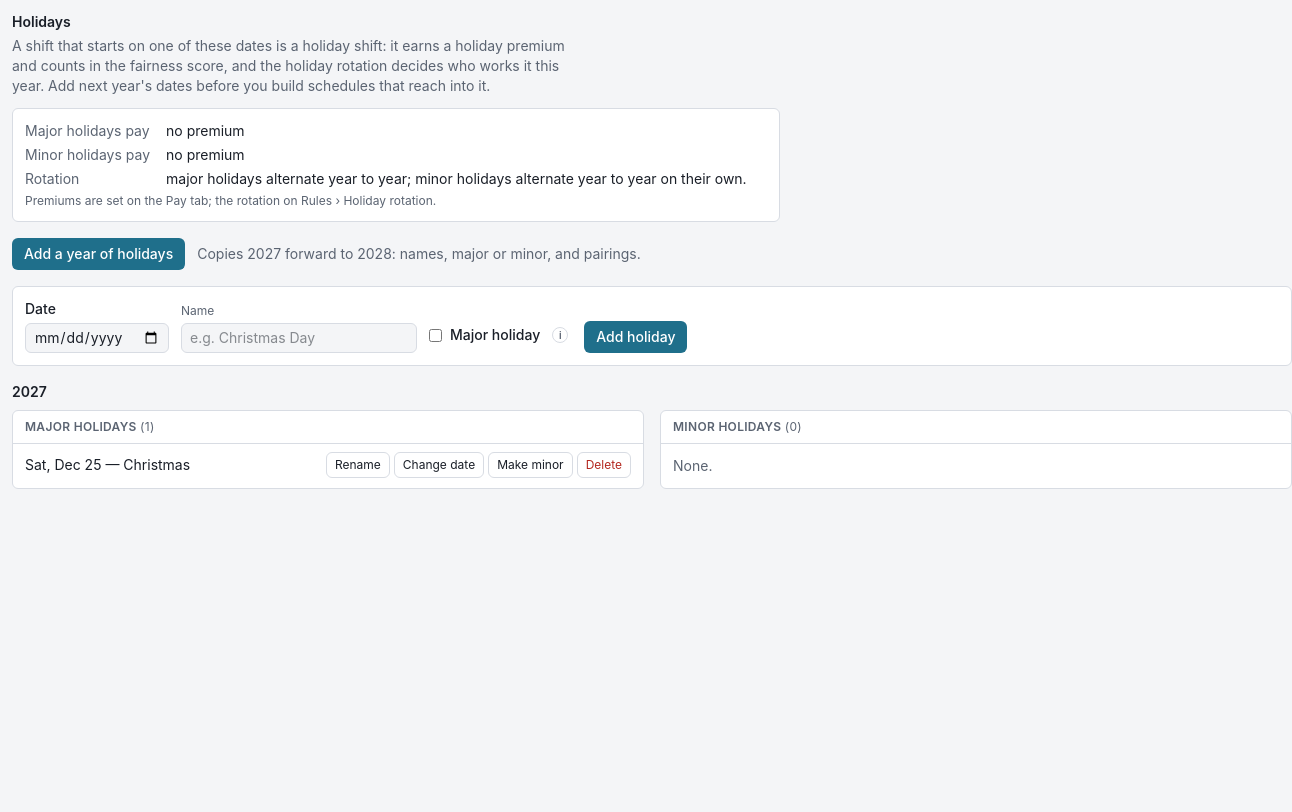
Test case: Settings › Holidays › shows the refusal in the manager’s words when a move needs a reason
Step 1. Click the button "Change date" → click(439, 465), box x1=394 y1=452 x2=484 y2=478
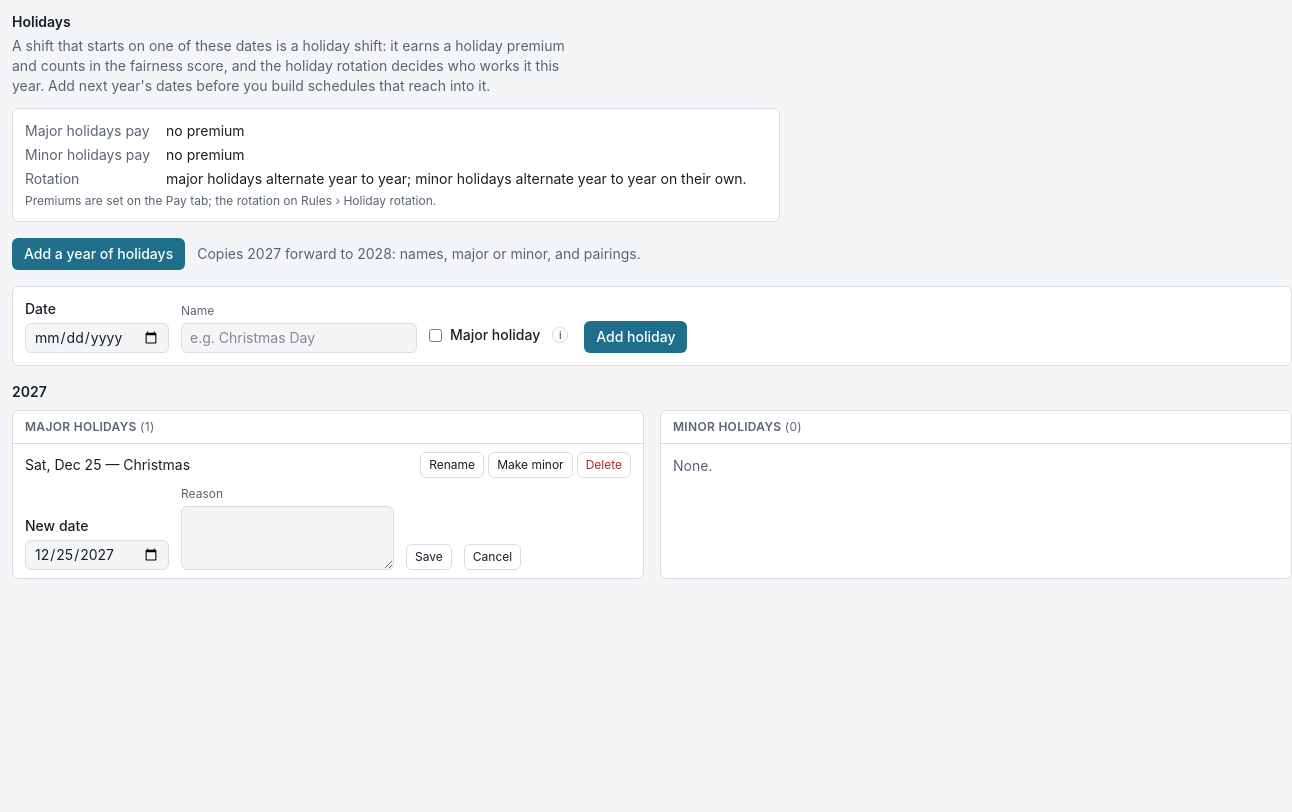
Step 2. Type "2027-12-26" into the date field labelled "New date" → (97, 555), box x1=25 y1=540 x2=169 y2=570
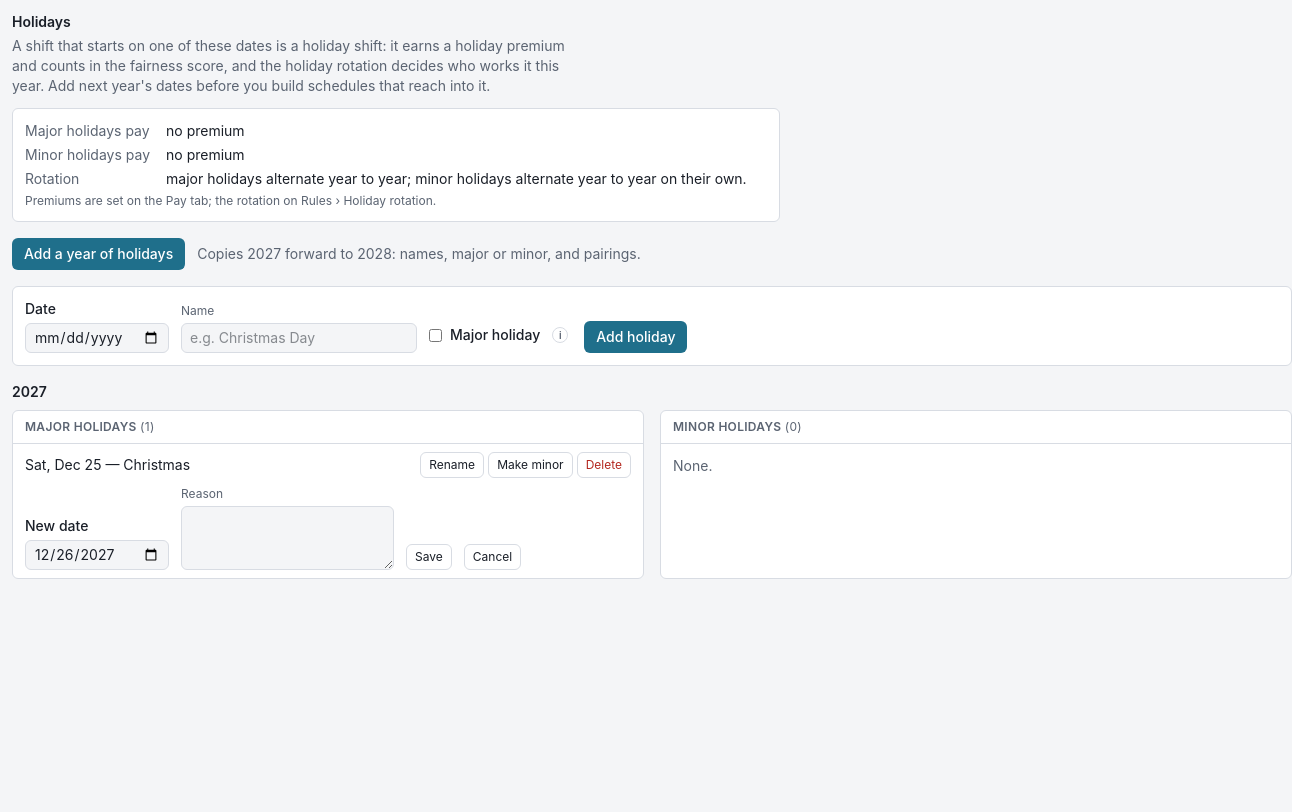
Step 3. Click the button "Save" → click(429, 557), box x1=406 y1=544 x2=452 y2=570
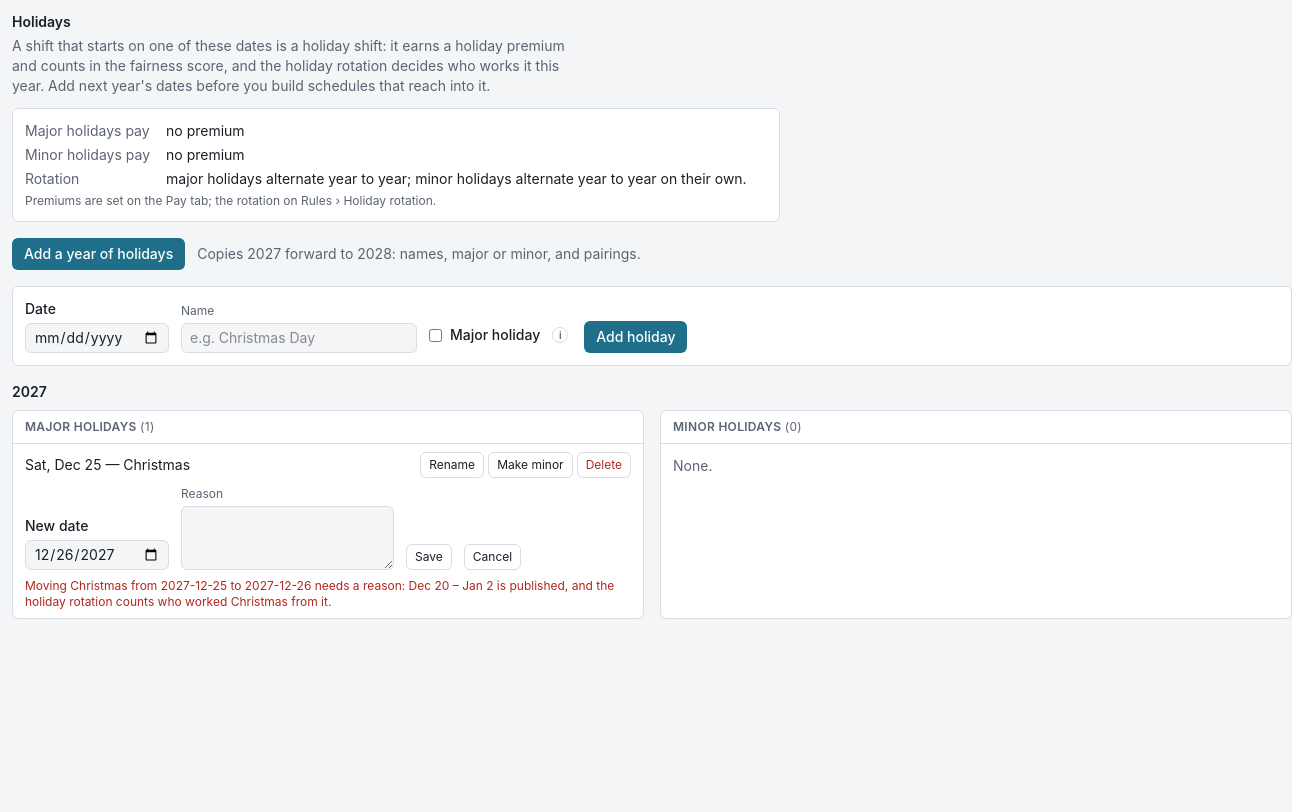
Result: the message shows "Moving Christmas from 2027-12-25 to 2027-12-26 needs a reason: Dec 20 – Jan 2 is published, and the holiday rotation counts who worked Christmas from it." at x1=25 y1=578 x2=614 y2=609
